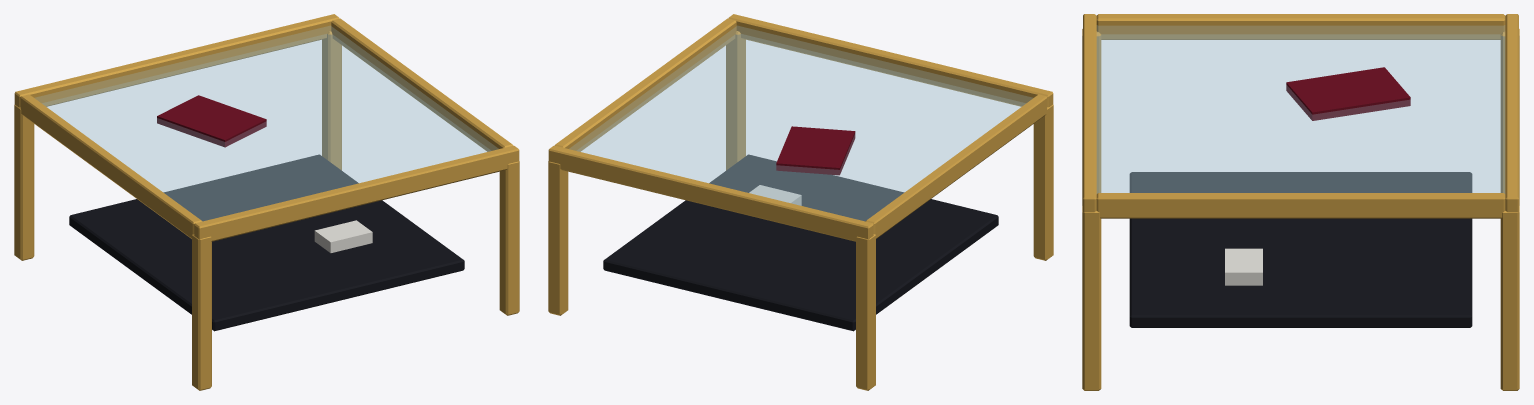
The model's file is coffee_table.glb.
3 views of the same model, side by side, from view 1: azimuth 30°, elevation 25°; view 2: azimuth 150°, elevation 25°; view 3: azimuth 270°, elevation 25° (orthographic). The views are drawn at different scales.
Parts seen in each view (by area): view 1: coffee_table; view 2: coffee_table; view 3: coffee_table.
Boxes of the visible parts, bbox=[...] form: coffee_table: bbox=[14, 14, 519, 390]; coffee_table: bbox=[548, 14, 1053, 390]; coffee_table: bbox=[1082, 14, 1519, 390].
Bounding box in the file's own units: 0.92 × 0.45 × 0.92.
